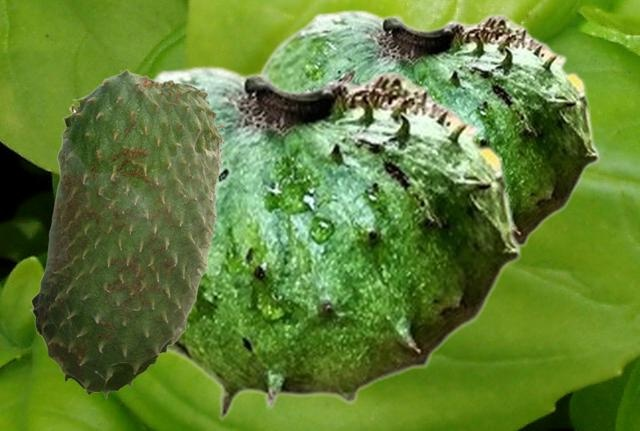guyabano: (150, 65, 521, 420), (257, 9, 599, 250), (29, 68, 226, 397)
